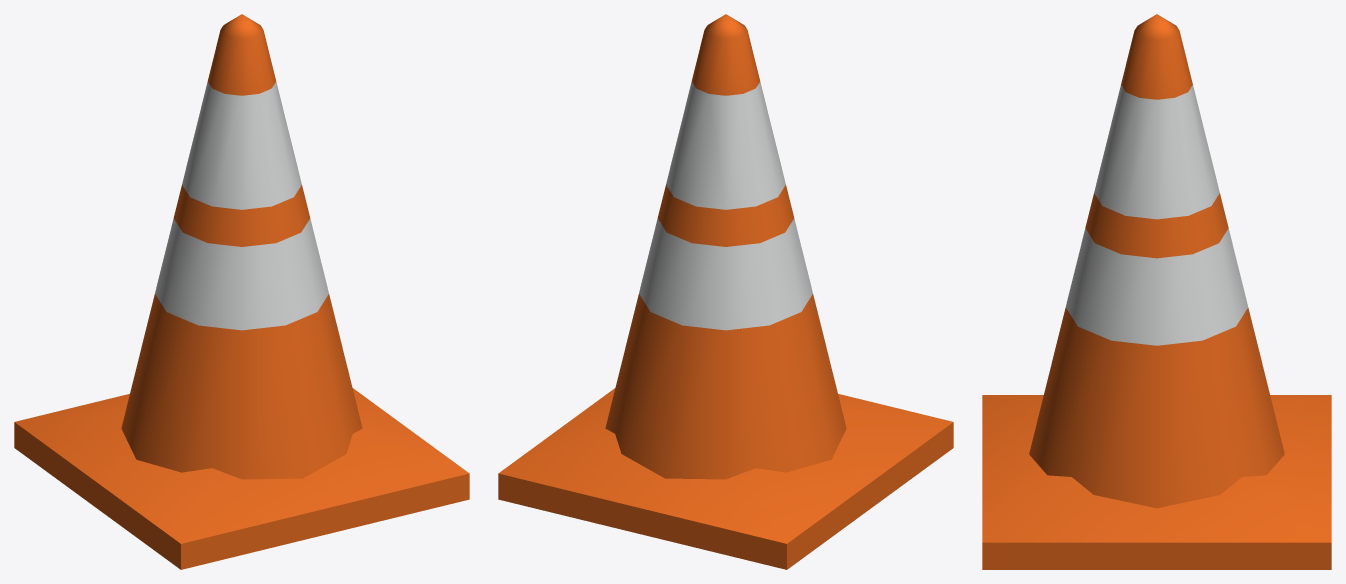
Rendered from SM_Obstacle_B_Cone_01.fbx.
The picture shows the model from 3 angles, left to right: view 1: azimuth 30°, elevation 25°; view 2: azimuth 150°, elevation 25°; view 3: azimuth 270°, elevation 25°; orthographic projection. The views are drawn at different scales.
Visible parts, largest first — view 1: SM_Obstacle_B_Cone_01; view 2: SM_Obstacle_B_Cone_01; view 3: SM_Obstacle_B_Cone_01.
Part boxes in pixels (box(x1,y1,x2,y2)): SM_Obstacle_B_Cone_01: box(14, 14, 469, 569); SM_Obstacle_B_Cone_01: box(498, 14, 953, 569); SM_Obstacle_B_Cone_01: box(982, 14, 1331, 569).
Size of the model in its own units: 52.13 by 79.34 by 52.13.
